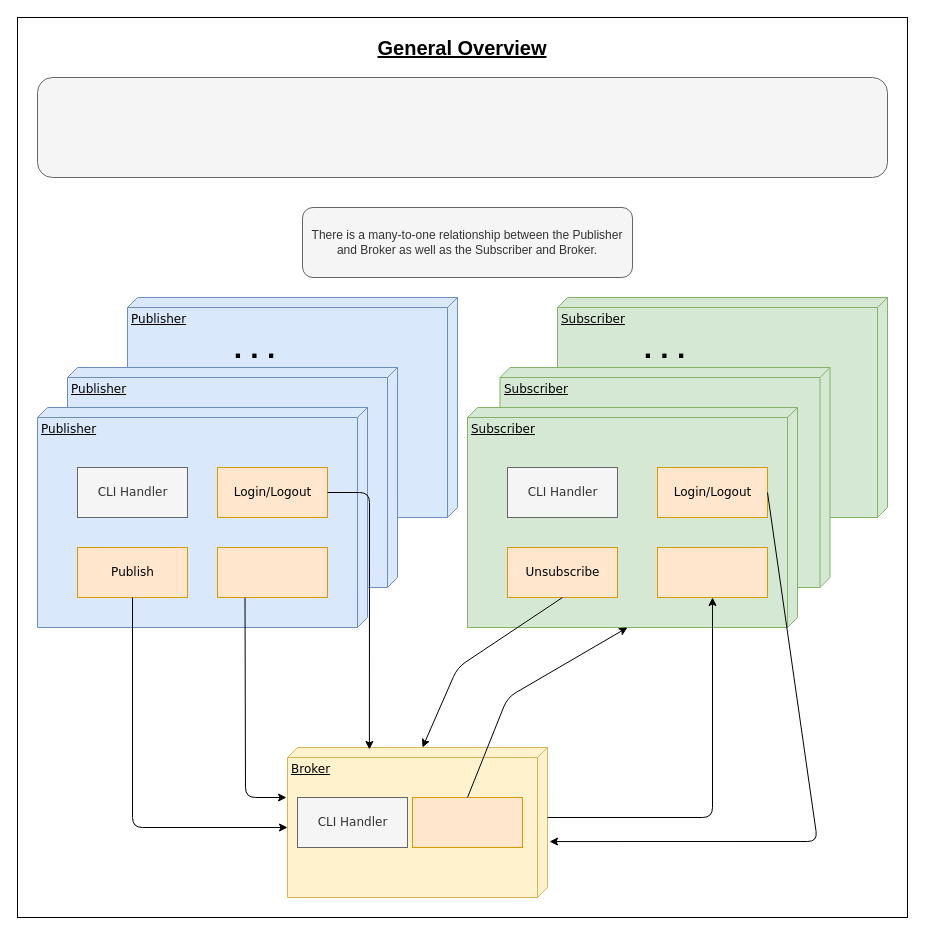
Image size: 925x935. Some labels were removed from this diagram. Here are the shapes that lost their labels. From the top down, the centre of each, then its label:
[462,127]: This diagram depicts the main functionality of this Publisher/Subscriber system.
[272,572]: Advertise
[712,572]: Subscribe
[467,822]: Notify/Deliver
